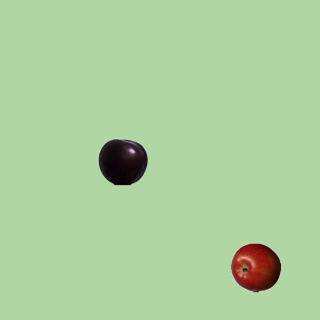Apple Braeburn: (230, 242, 280, 292)
Cherry Wax Black: (97, 136, 147, 186)
